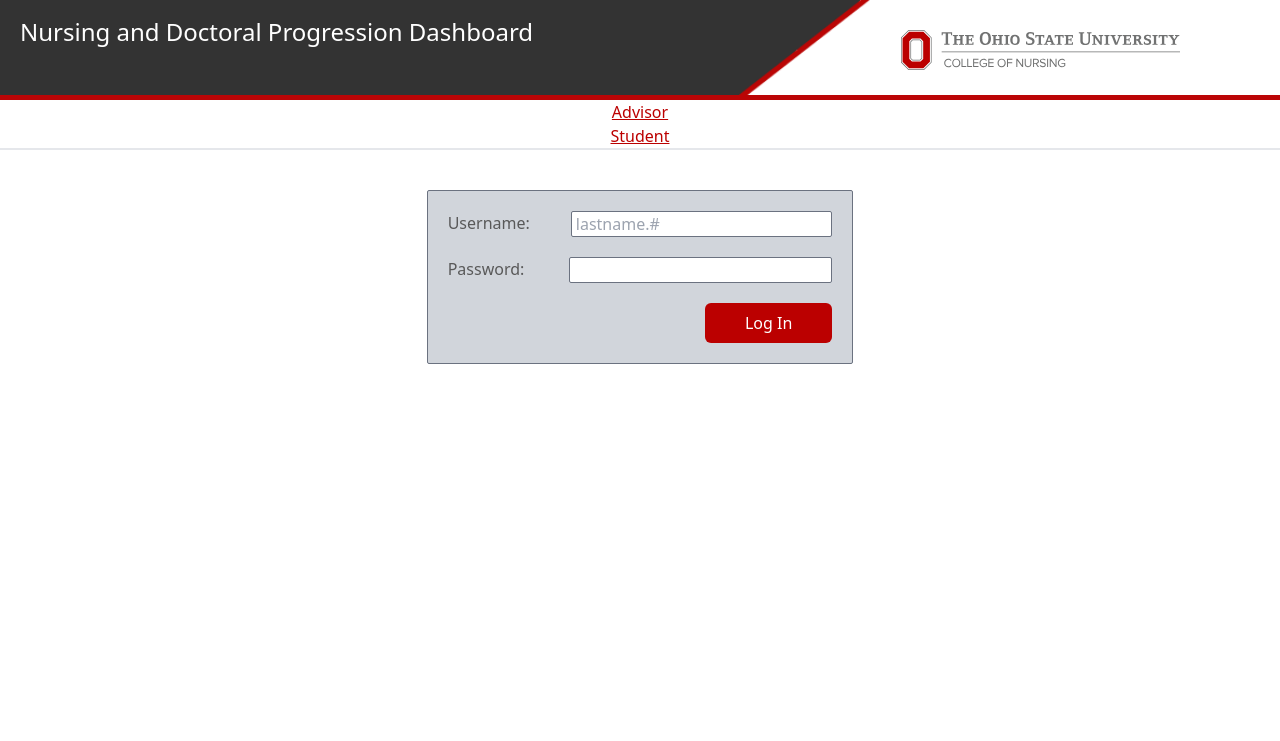
Test: Login › Redirects to Student page after logging in as a student
This screenshot has width=1280, height=741.
In the field named "username": (702,224) [571,211,833,237], type "kaes.15"
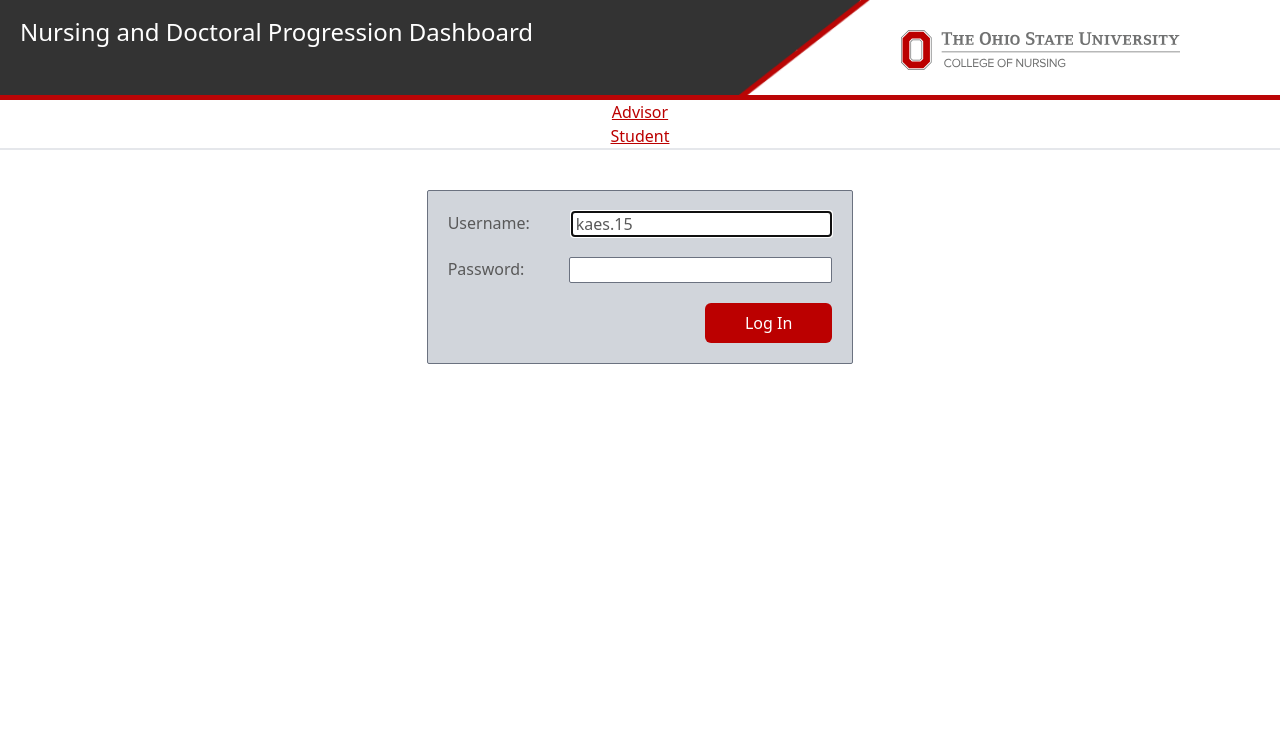
In the password field named "password": (701,270) [569,257,832,283], type "password"
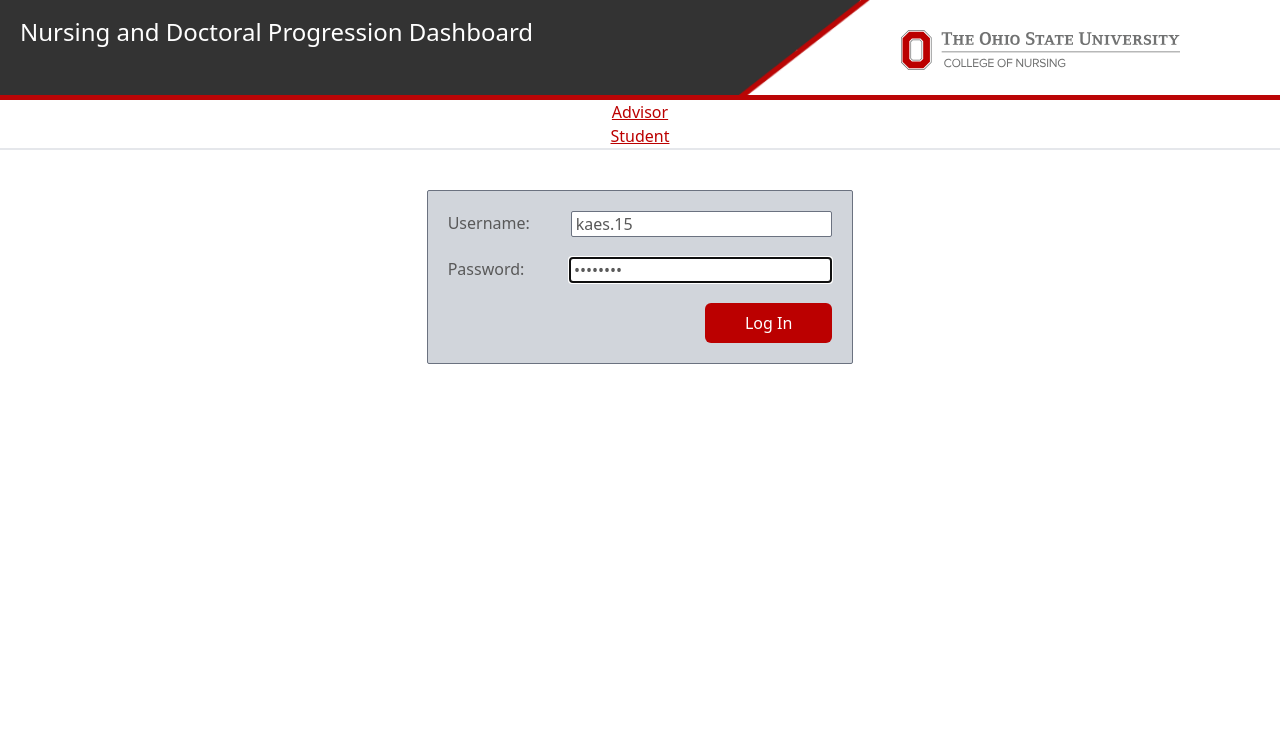
Click the submit button: (769,323) [705,303,832,343]
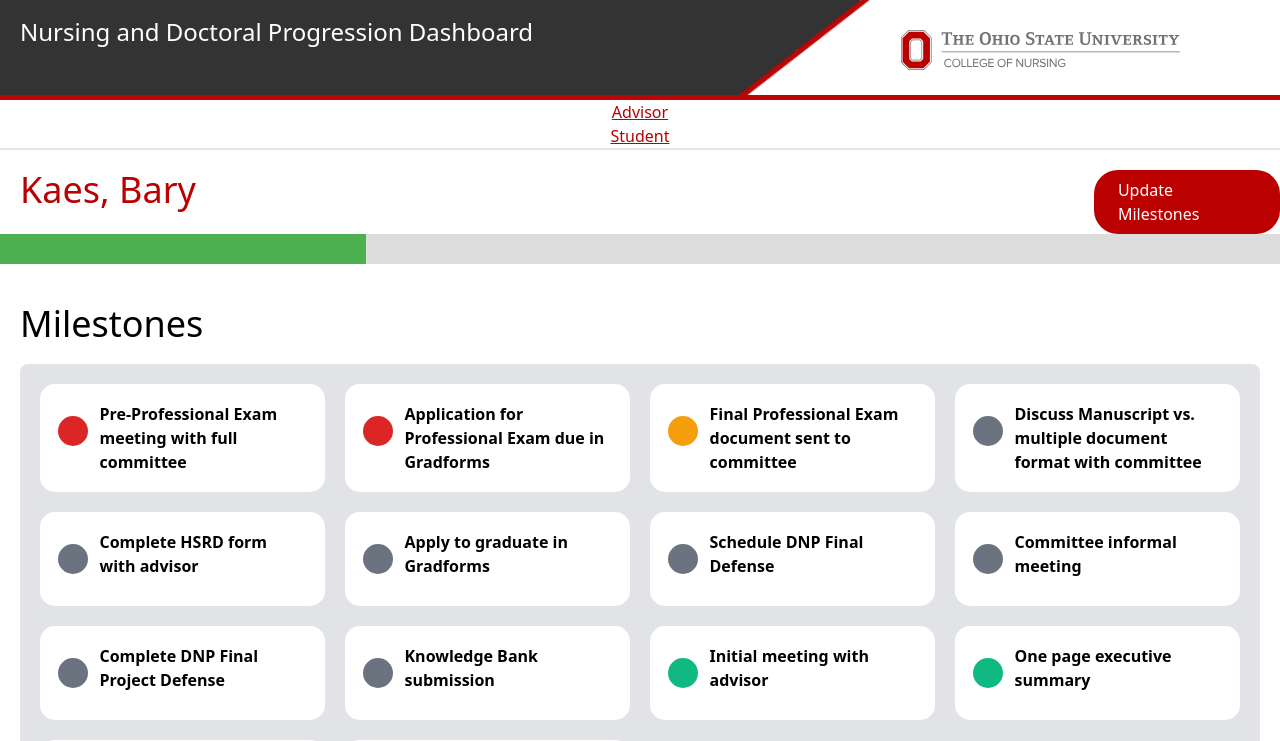
Now the heading "Kaes, Bary" is shown, box [20,165,196,214]
